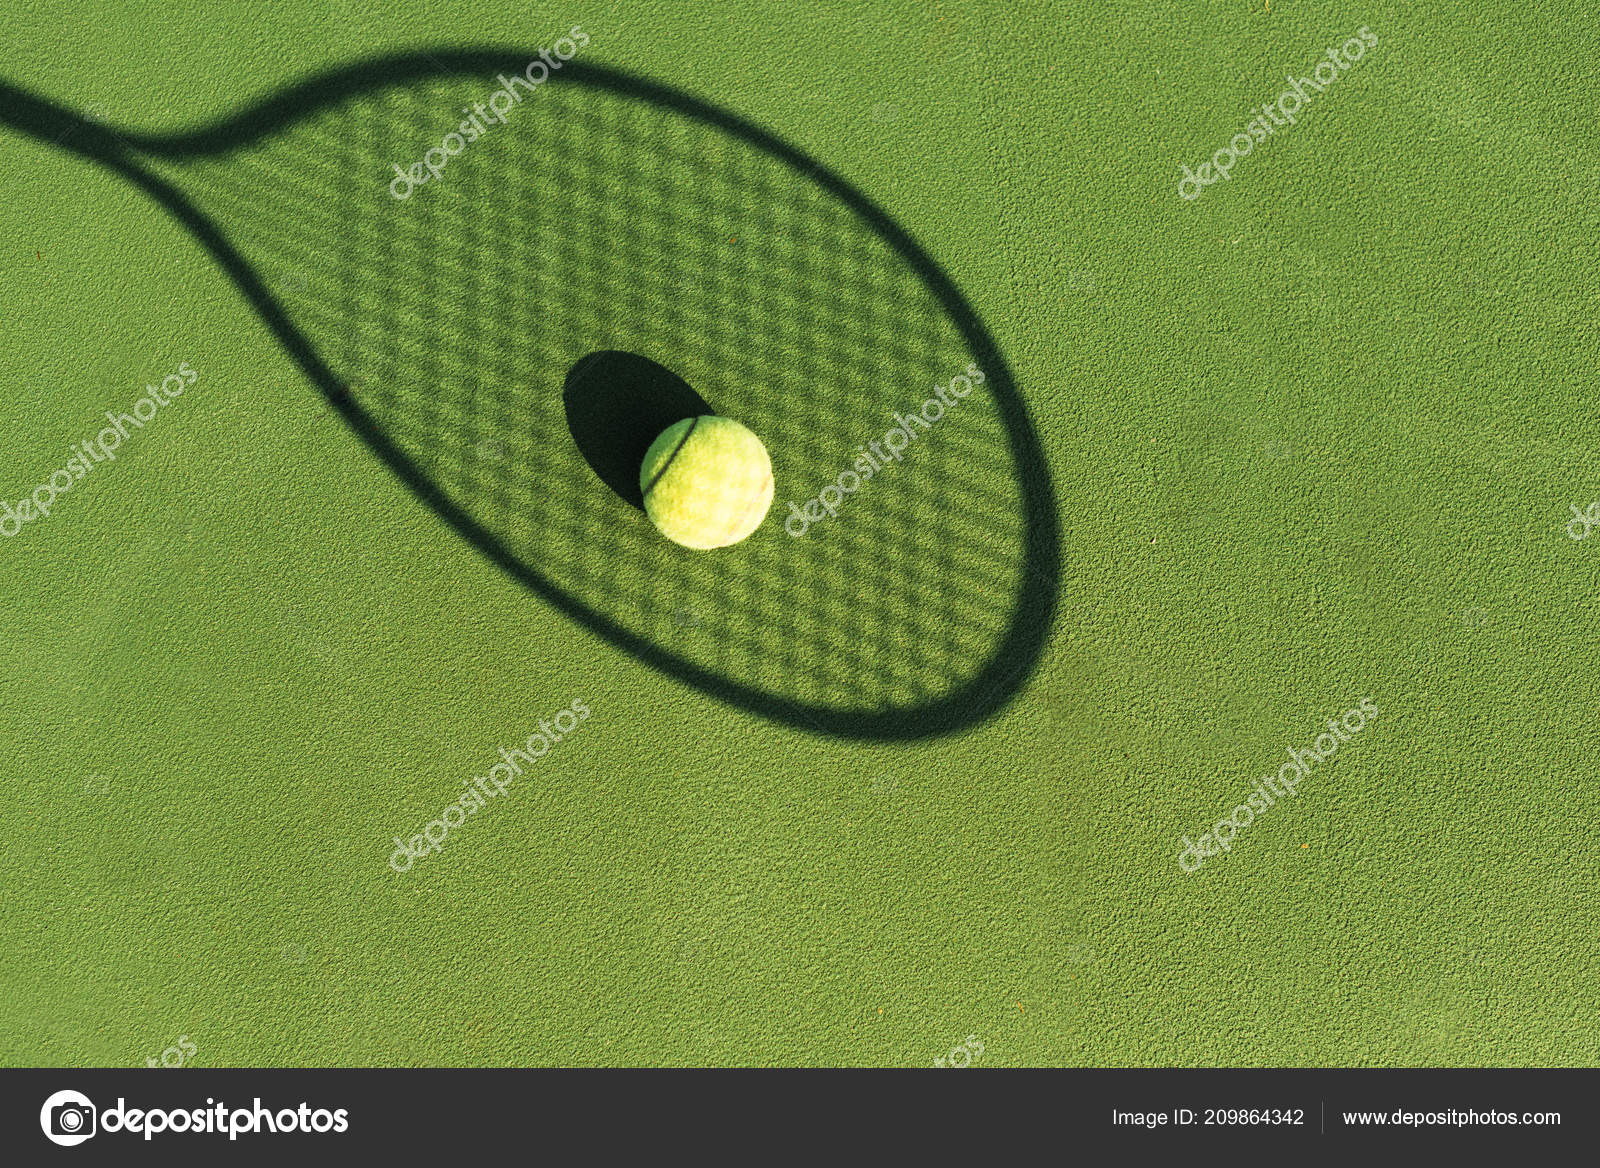tennis_ball: (639, 406, 774, 549)
